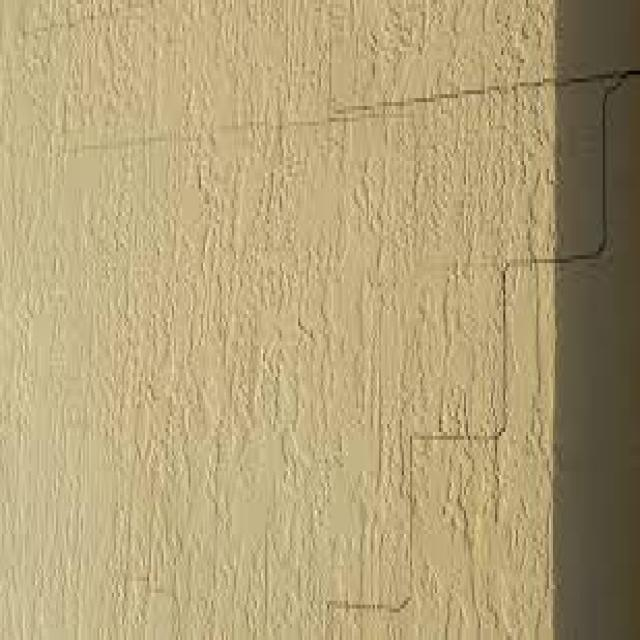Crack: (319, 51, 636, 636)
